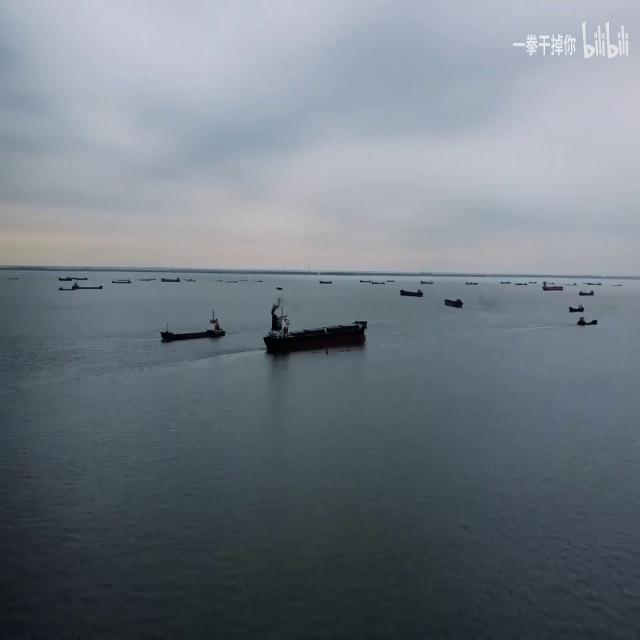cargoship: (249, 291, 369, 366), (158, 297, 228, 345), (434, 285, 469, 308), (398, 283, 426, 307)
